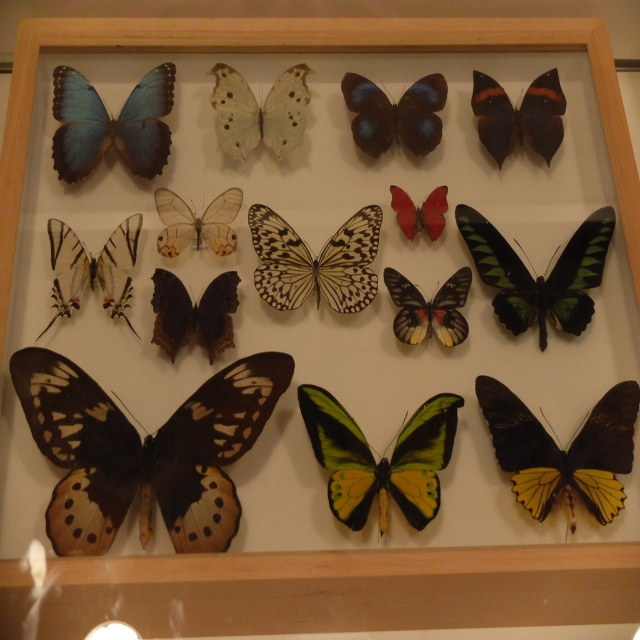Butterfly: (3, 346, 299, 569), (304, 372, 461, 541), (477, 375, 637, 540), (456, 200, 623, 356), (38, 203, 150, 344), (52, 57, 177, 180), (253, 197, 376, 309), (197, 54, 308, 175), (473, 61, 570, 178), (144, 261, 245, 365), (342, 69, 445, 162), (381, 265, 474, 356), (155, 185, 250, 257), (387, 169, 450, 259)
